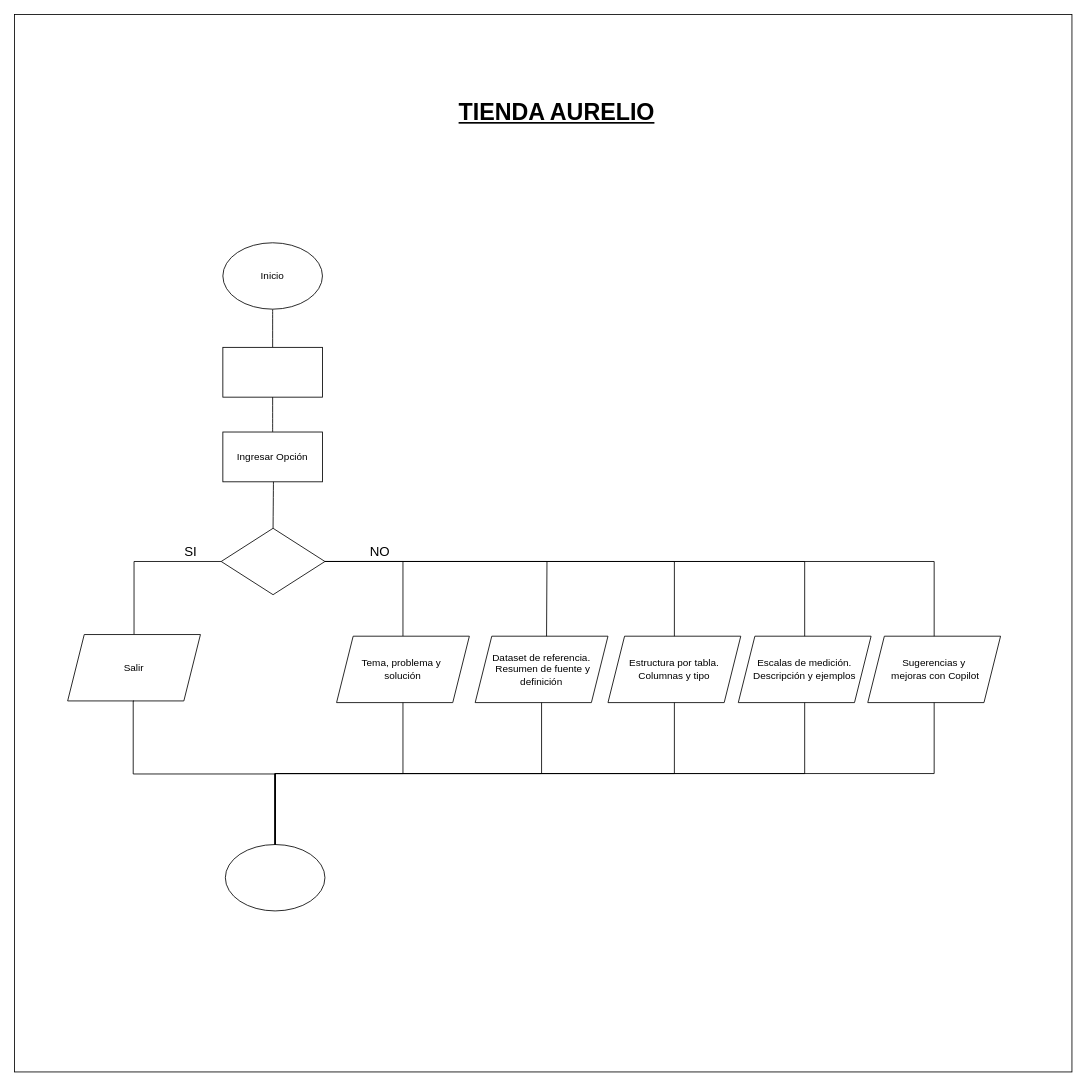
The diagram is 1086 pixels wide and 1086 high, and some of its shapes have lost their labels. The shapes that lost their labels are listed below. From the top down, each one's box as (x1, y1, x2, y2) in pixels, then its label:
(222, 347, 322, 397): Leer Menú
(220, 527, 325, 595): Opción 6
(225, 844, 325, 911): Fin
